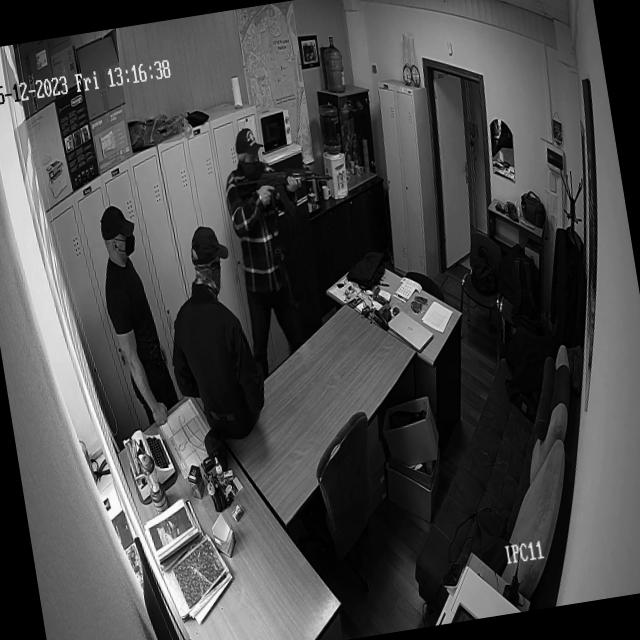gun: (236, 166, 336, 225), (494, 200, 506, 215)
person: (152, 224, 272, 446), (90, 192, 184, 431)
person with a gun: (216, 120, 361, 384)
